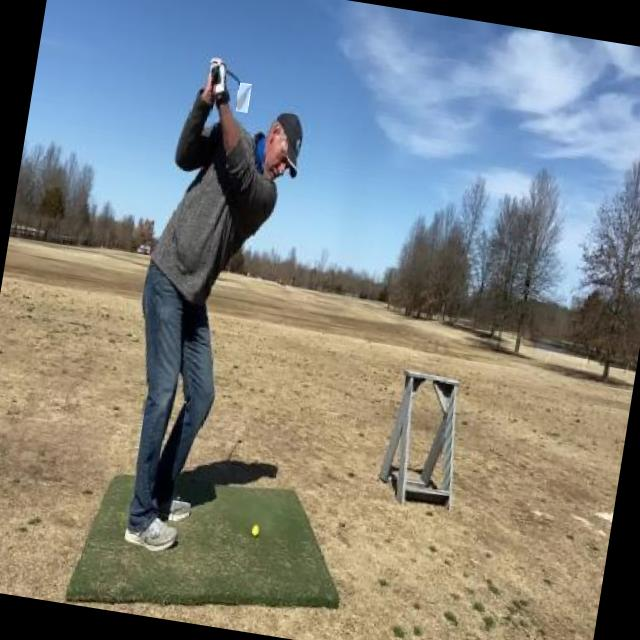club head: (236, 82, 252, 114)
